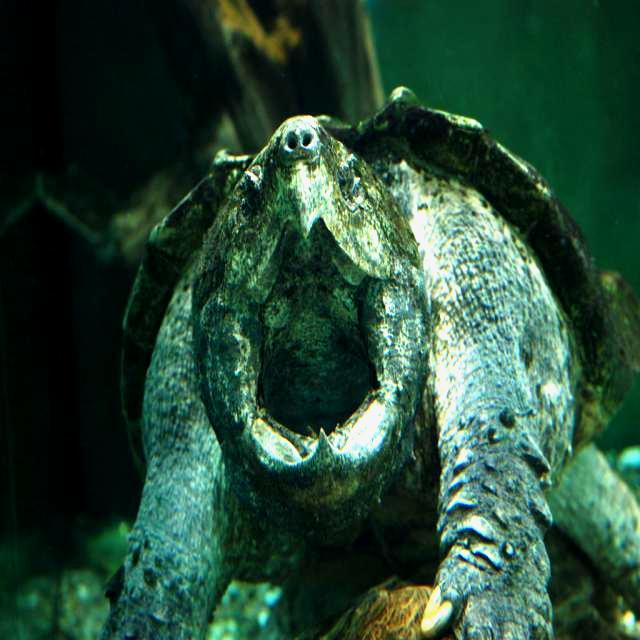Sea turtle: (102, 87, 640, 640)
